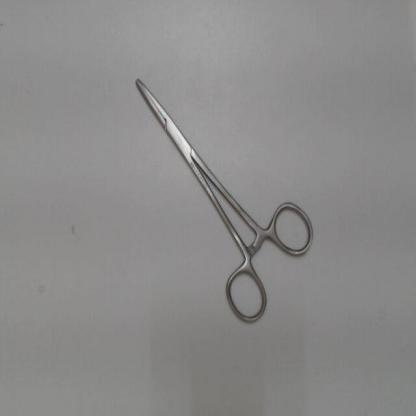Mayo Needle Holder: (123, 62, 321, 334)
